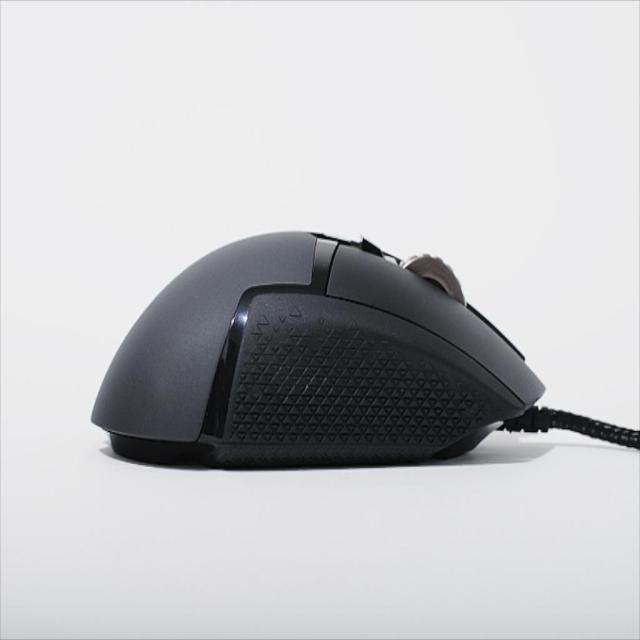Computer mouse: (90, 224, 548, 466)
